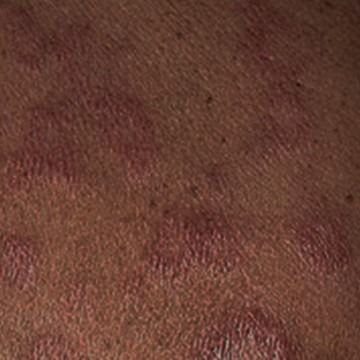Leprosy: (0, 0, 161, 182), (203, 12, 359, 156), (124, 192, 246, 288), (264, 192, 359, 294), (182, 299, 299, 359), (0, 223, 46, 306)
